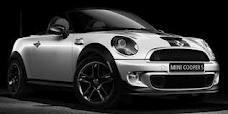car: (9, 8, 223, 108)
